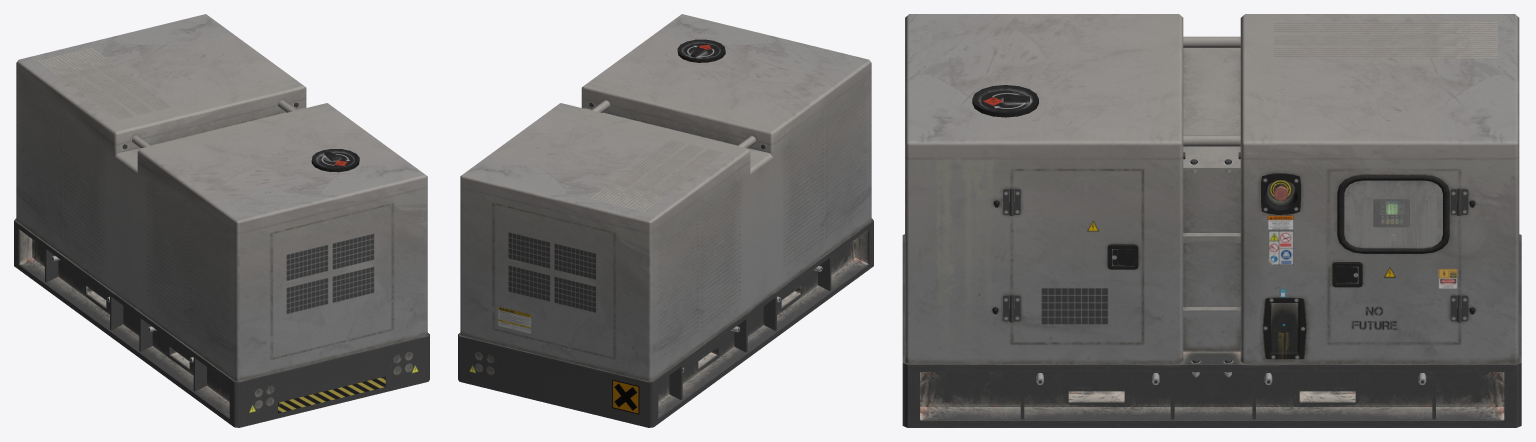
Rendered from my_generator.glb.
3 views of the same model, side by side, from view 1: azimuth 30°, elevation 25°; view 2: azimuth 150°, elevation 25°; view 3: azimuth 270°, elevation 25° (orthographic). The views are drawn at different scales.
Visible parts, largest first — view 1: korpus_low; view 2: korpus_low; view 3: korpus_low.
Part boxes in pixels (left/top/right/bottom): korpus_low: left=14, top=14, right=429, bottom=427; korpus_low: left=458, top=14, right=873, bottom=427; korpus_low: left=902, top=14, right=1521, bottom=427.
Bounding box in the file's own units: 1.03 × 1.05 × 2.02.
2 materials, 2 textured.
